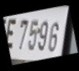character: (47, 21, 59, 53), (37, 20, 48, 51), (27, 20, 38, 50), (18, 19, 28, 51), (6, 19, 16, 48)
